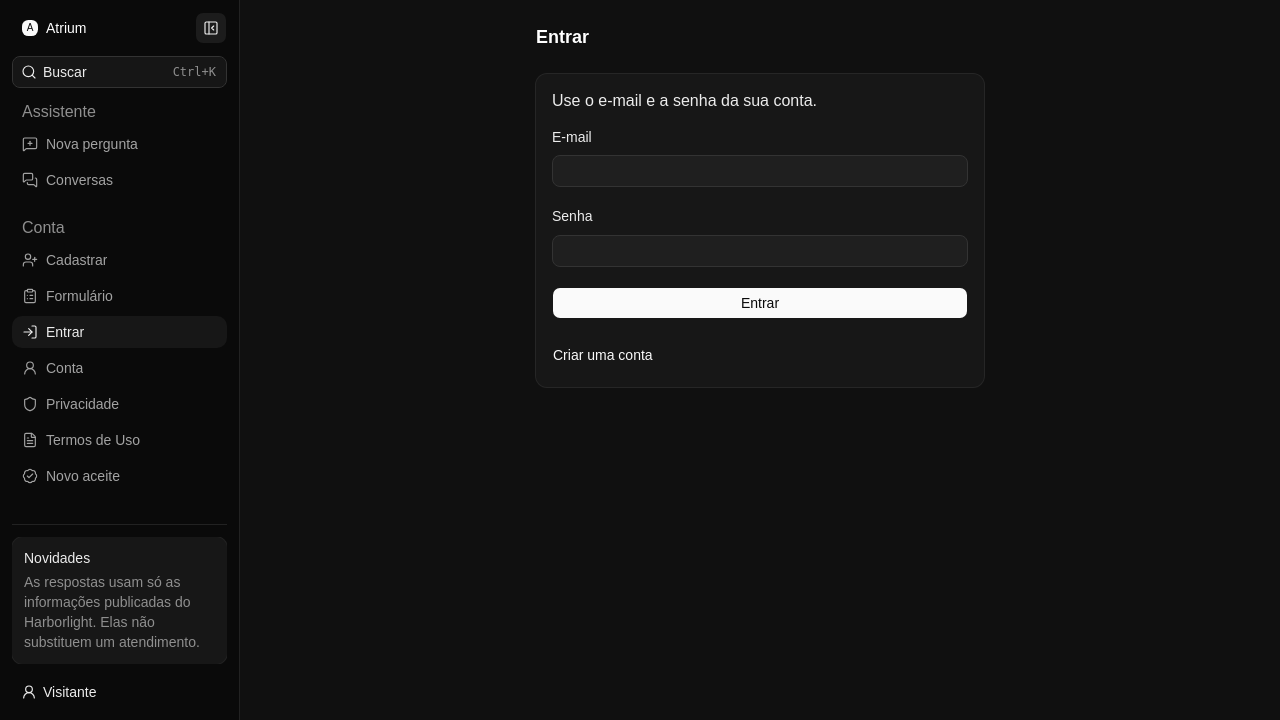
Test: entrar › pede os campos vazios em português
The image size is (1280, 720).
Click the button "Entrar". click: coordinates (760, 302)
box: top-left (552, 286), bottom-right (968, 318)
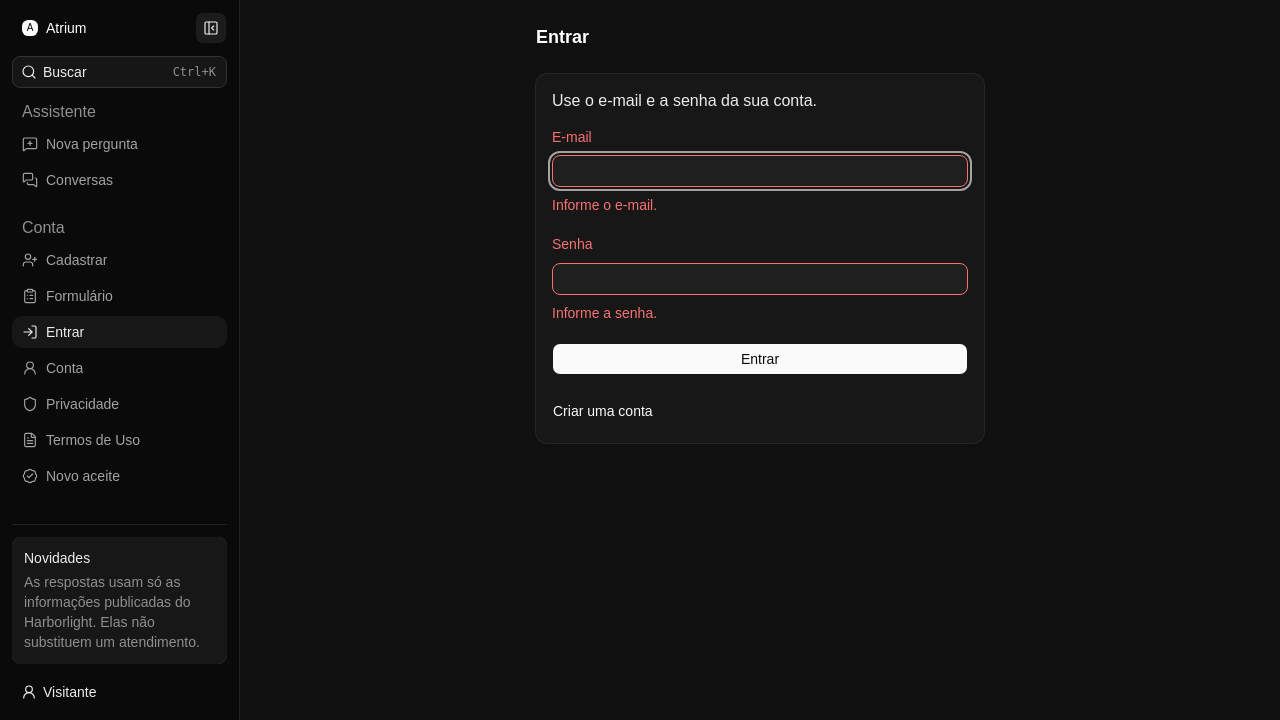
Expected: the text "Informe o e-mail." is shown, top-left (552, 197), bottom-right (657, 213)
Expected: the text "Informe a senha." is shown, top-left (552, 304), bottom-right (657, 320)
